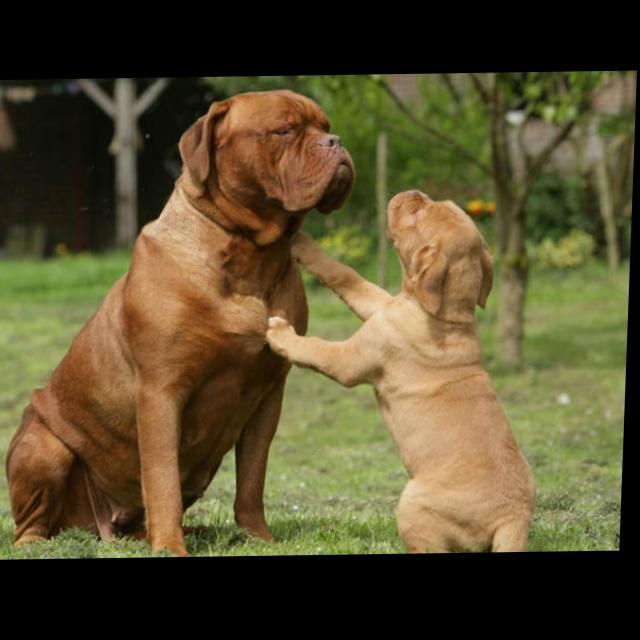dogue_de_bordeaux: (6, 89, 363, 561), (261, 189, 551, 558)
